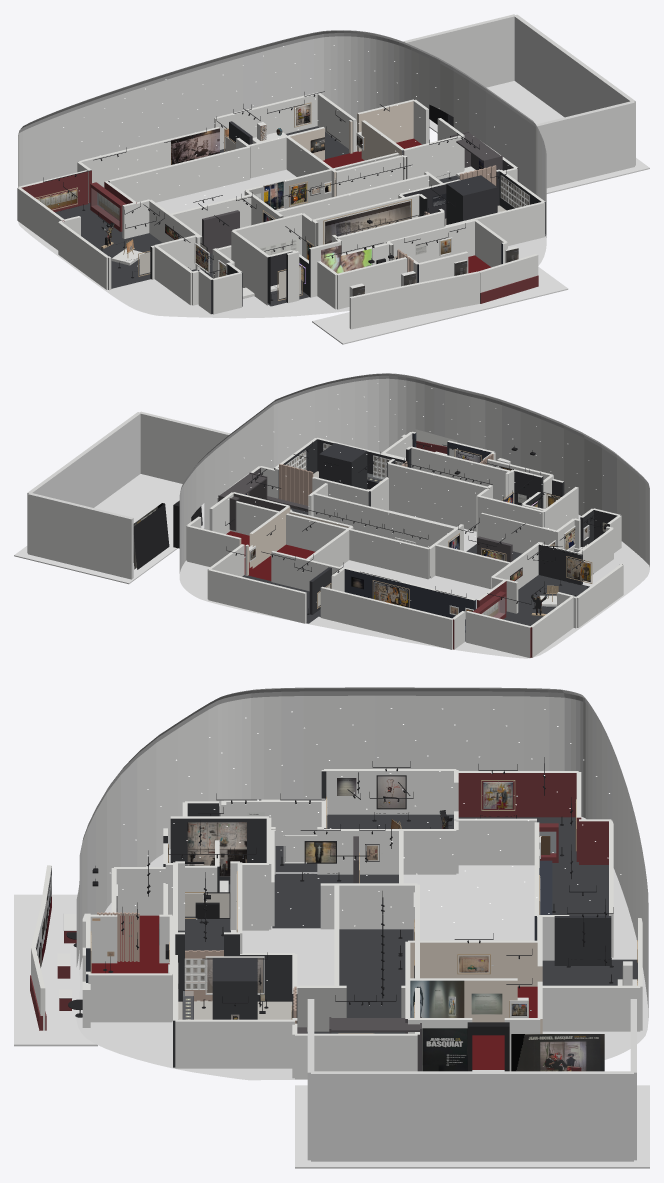
Rendered from basquiat.glb.
3 renders of one model, top to bottom at view 1: azimuth 30°, elevation 25°; view 2: azimuth 150°, elevation 25°; view 3: azimuth 270°, elevation 25°, orthographic. The views are drawn at different scales.
Parts seen in each view (by area): view 1: walls, hall, foyer, floor, works, ceiling, rig, glass; view 2: walls, hall, foyer, floor, works, ceiling, rig; view 3: walls, foyer, hall, floor, works, ceiling, rig.
Boxes of the visible parts, <box> form: walls: <box>17,92,545,314</box>; hall: <box>18,36,546,237</box>; foyer: <box>312,14,649,344</box>; floor: <box>18,122,546,318</box>; works: <box>35,102,529,300</box>; ceiling: <box>18,30,544,143</box>; rig: <box>43,91,514,278</box>; glass: <box>91,188,500,226</box>; walls: <box>186,431,623,657</box>; hall: <box>179,378,649,573</box>; foyer: <box>14,411,510,584</box>; floor: <box>179,471,649,658</box>; works: <box>218,443,607,619</box>; ceiling: <box>180,373,649,491</box>; rig: <box>225,439,609,604</box>; walls: <box>86,769,642,1079</box>; foyer: <box>14,865,649,1168</box>; hall: <box>76,695,648,1017</box>; floor: <box>76,814,648,1080</box>; works: <box>90,775,637,1071</box>; ceiling: <box>82,687,642,848</box>; rig: <box>92,757,613,1006</box>.
Size of the model in its own units: 52.16 by 8.93 by 39.4.
141 materials, 108 textured.
